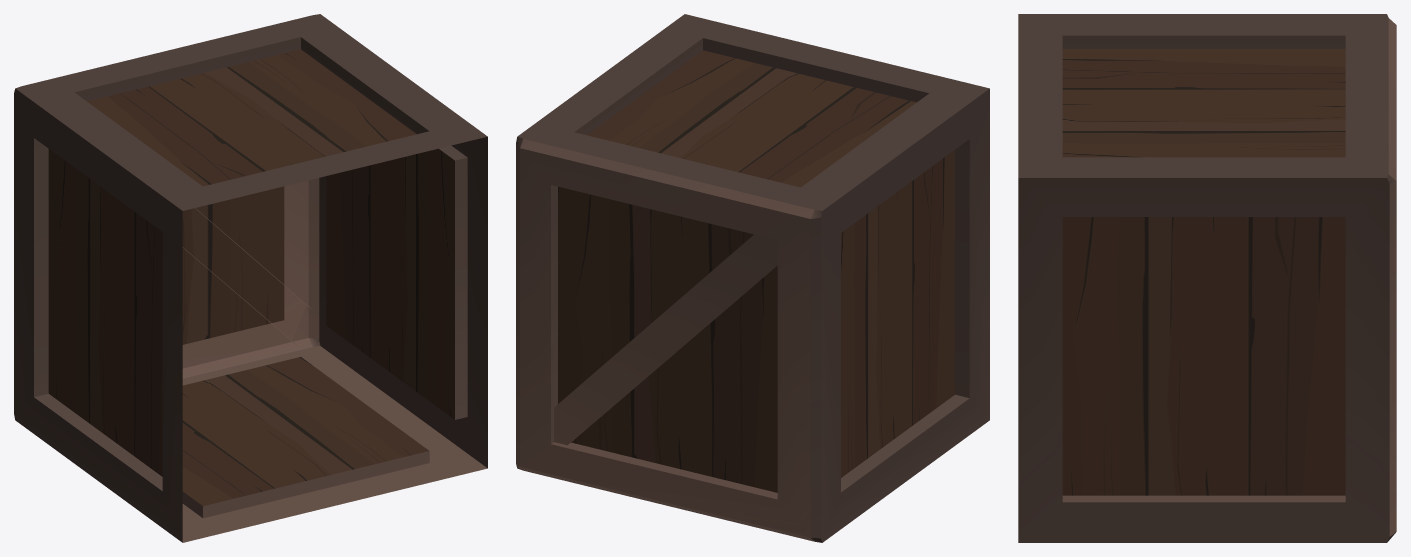
The model's file is Crate 02.FBX.
3 views of the same model, side by side, from view 1: azimuth 30°, elevation 25°; view 2: azimuth 150°, elevation 25°; view 3: azimuth 270°, elevation 25° (orthographic). The views are drawn at different scales.
Visible parts, largest first — view 1: Crate 02; view 2: Crate 02; view 3: Crate 02.
Boxes of the visible parts, x1,y1,x2,y2 form: Crate 02: (14, 14, 487, 542); Crate 02: (516, 14, 989, 542); Crate 02: (1018, 14, 1396, 542).
Size of the model in its own units: 86.95 by 90.37 by 84.86.
